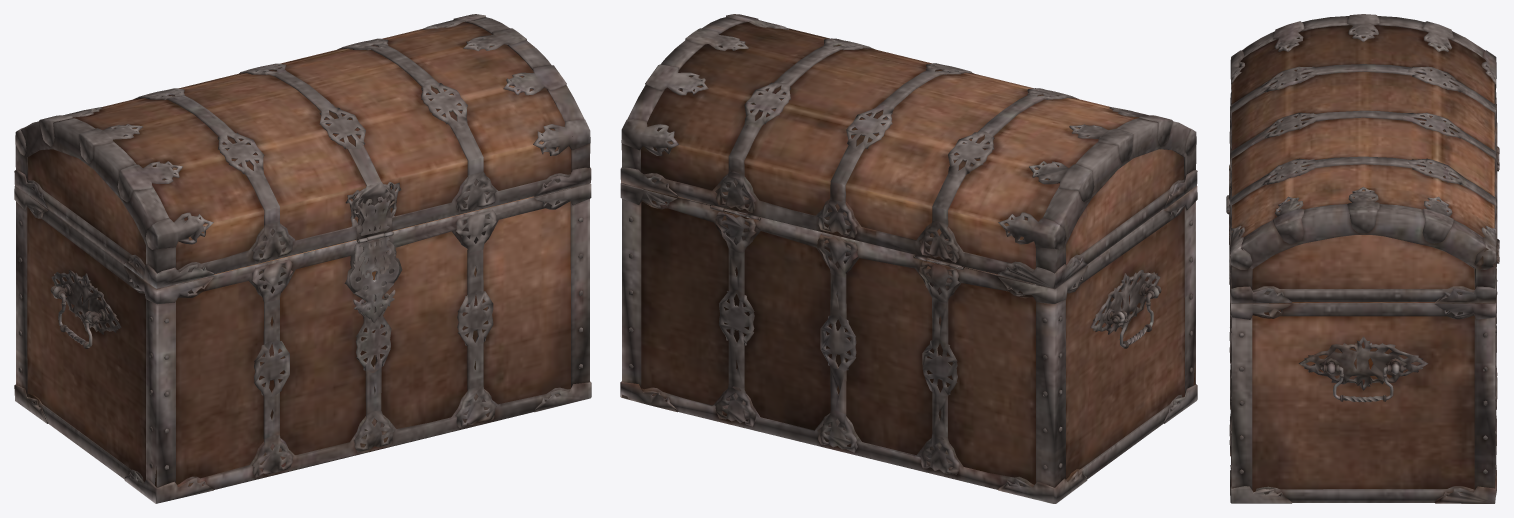
The model's file is chest.glb.
The picture shows the model from 3 angles, left to right: view 1: azimuth 30°, elevation 25°; view 2: azimuth 150°, elevation 25°; view 3: azimuth 270°, elevation 25°; orthographic projection. The views are drawn at different scales.
Visible parts, largest first — view 1: ChestBody, ChestLid, ChestLatch, ChestHandleLeft; view 2: ChestBody, ChestLid, ChestHandleLeft; view 3: ChestLid, ChestBody, ChestHandleRight.
Boxes of the visible parts, x1,y1,x2,y2 form: ChestBody: (14, 183, 591, 503); ChestLid: (14, 14, 591, 288); ChestLatch: (349, 233, 399, 322); ChestHandleLeft: (50, 285, 100, 348); ChestBody: (620, 183, 1197, 503); ChestLid: (620, 14, 1197, 288); ChestHandleLeft: (1112, 285, 1161, 348); ChestLid: (1226, 14, 1499, 303); ChestBody: (1229, 134, 1499, 503); ChestHandleRight: (1320, 365, 1406, 402).
Size of the model in its own units: 0.959 by 0.6181 by 0.5223.
Materials: 3 (3 with a texture image).
